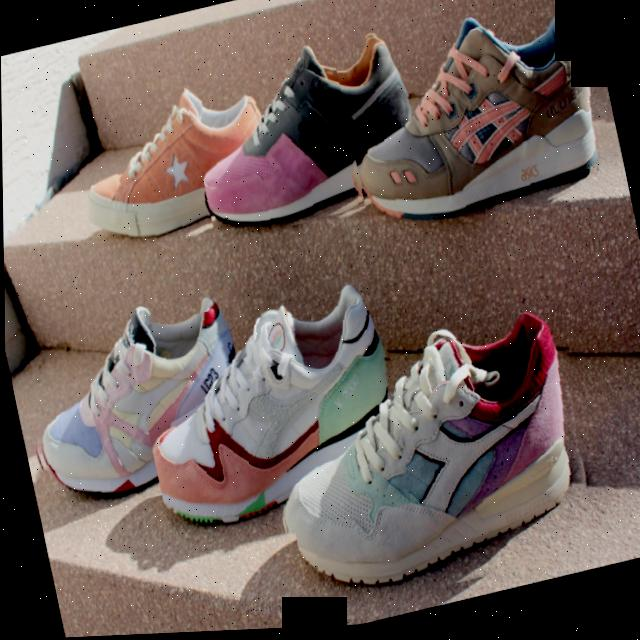shoe: (259, 300, 615, 626), (126, 271, 425, 563), (331, 0, 622, 249), (5, 272, 271, 524), (180, 19, 441, 249), (64, 56, 294, 262)
